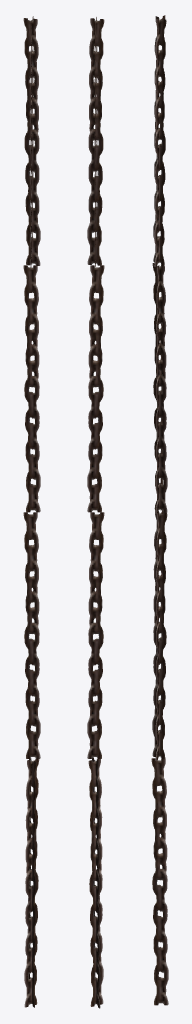
The model's file is kettinki.fbx.
3 renders of one model, left to right at view 1: azimuth 30°, elevation 25°; view 2: azimuth 210°, elevation 25°; view 3: azimuth 270°, elevation 25°, orthographic.
Parts seen in each view (by area): view 1: pPlane9; view 2: pPlane9; view 3: pPlane9.
Part boxes in pixels (x1=…): pPlane9: x1=23, y1=16, x2=40, y2=1007; pPlane9: x1=87, y1=17, x2=104, y2=1008; pPlane9: x1=151, y1=15, x2=168, y2=1005.
Size of the model in its own units: 0.1638 by 8 by 0.1638.
